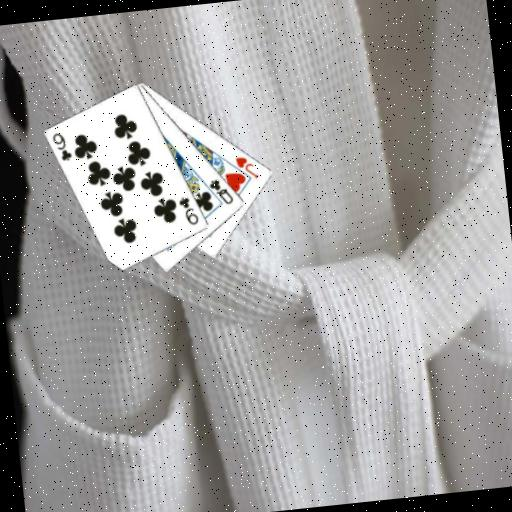9C: (176, 193, 201, 228), (50, 129, 75, 164)
JH: (233, 153, 261, 183)
QC: (206, 175, 236, 208)
